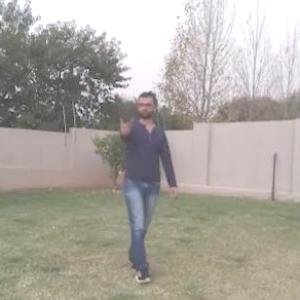takeoff-hand: (113, 108, 133, 141)
